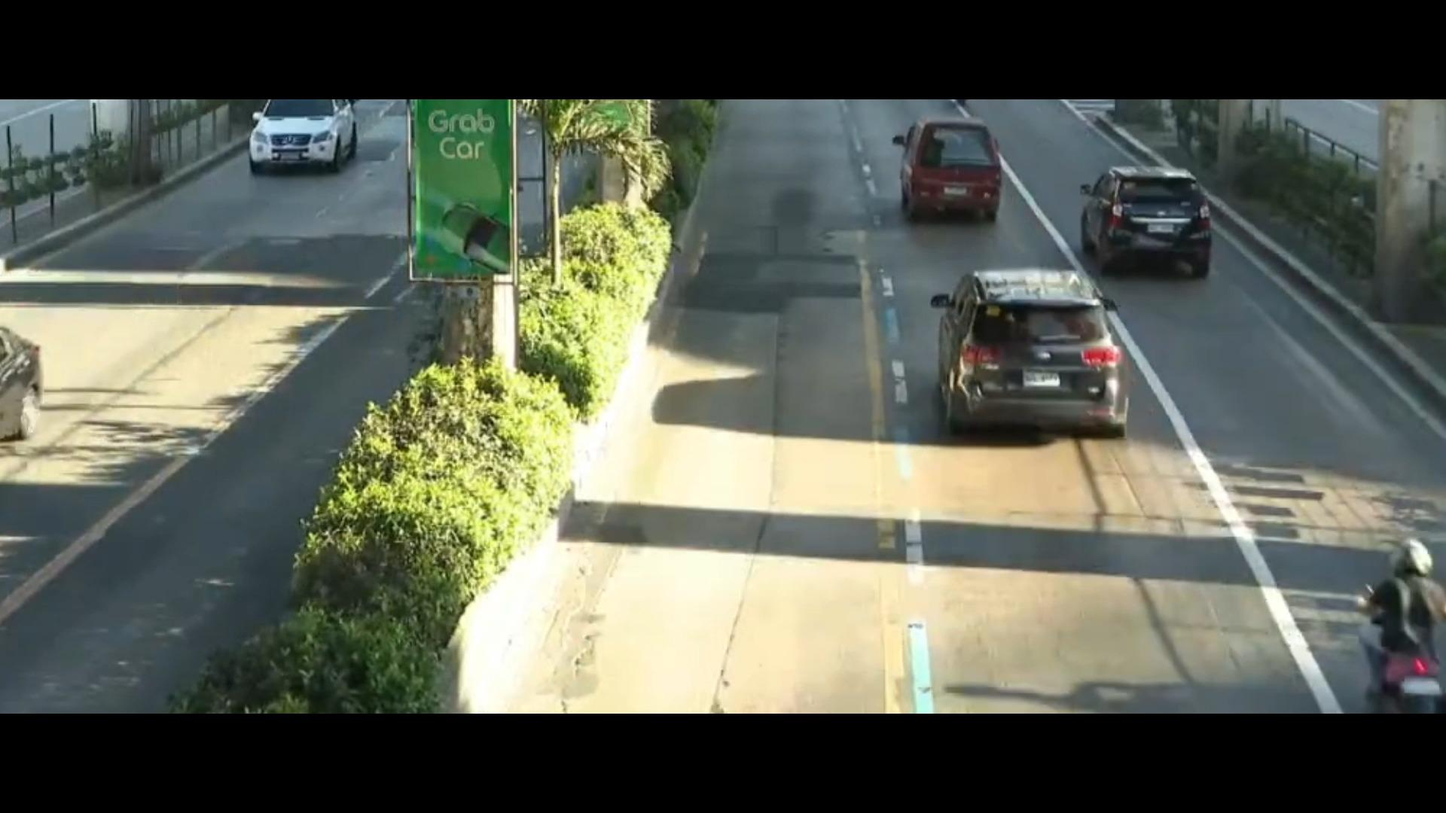Motorcycle: (1339, 518, 1446, 715)
SUV: (915, 247, 1141, 446), (1075, 160, 1236, 288), (896, 96, 1008, 246), (222, 96, 358, 185)
